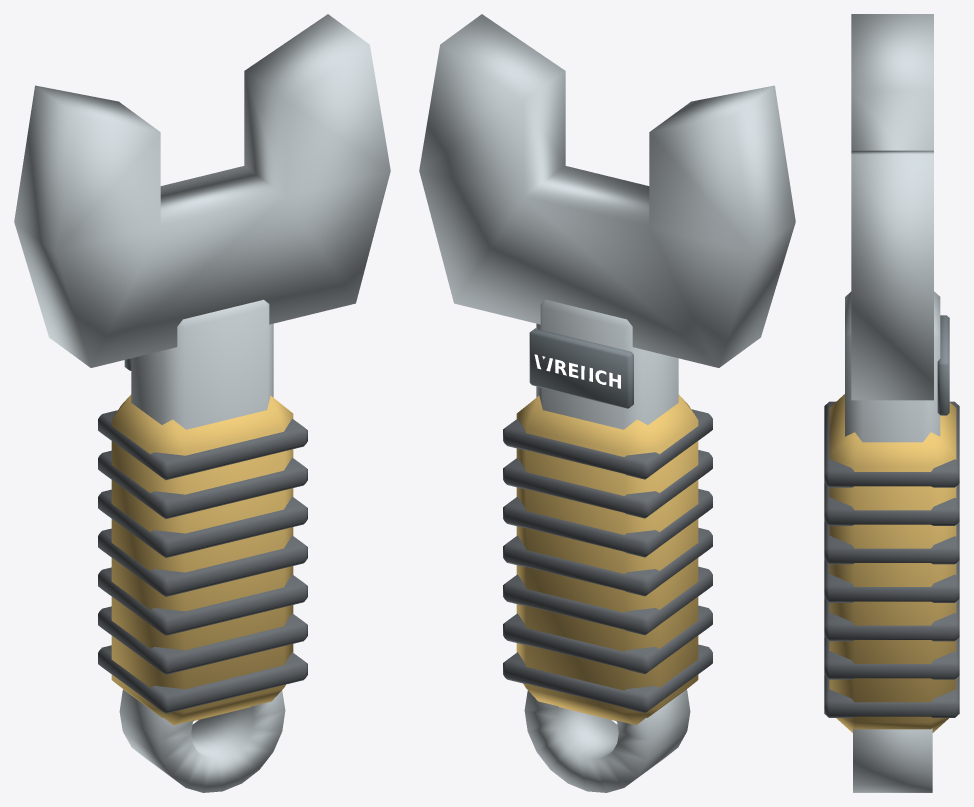
The model's file is wrench_standard.glb.
The picture shows the model from 3 angles, left to right: view 1: azimuth 30°, elevation 25°; view 2: azimuth 150°, elevation 25°; view 3: azimuth 270°, elevation 25°; orthographic projection.
Visible parts, largest first — view 1: WrenchHead_steel, GripRib_rubber, GripHousing_gold, Shank_steel, LanyardRing_steel; view 2: WrenchHead_steel, GripHousing_gold, GripRib_rubber, LanyardRing_steel, Shank_steel, Nameplate_frame, TypeLabel_white; view 3: WrenchHead_steel, GripHousing_gold, GripRib_rubber, Shank_steel, LanyardRing_steel, Nameplate_frame.
Part boxes in pixels (x1=…): WrenchHead_steel: x1=14, y1=14, x2=390, y2=367; GripRib_rubber: x1=98, y1=410, x2=307, y2=713; GripHousing_gold: x1=111, y1=394, x2=293, y2=725; Shank_steel: x1=131, y1=299, x2=273, y2=429; LanyardRing_steel: x1=119, y1=689, x2=285, y2=792; WrenchHead_steel: x1=419, y1=14, x2=795, y2=367; GripHousing_gold: x1=516, y1=394, x2=698, y2=725; GripRib_rubber: x1=503, y1=409, x2=712, y2=712; LanyardRing_steel: x1=524, y1=689, x2=690, y2=792; Shank_steel: x1=536, y1=299, x2=678, y2=429; Nameplate_frame: x1=529, y1=328, x2=633, y2=408; TypeLabel_white: x1=534, y1=354, x2=620, y2=388; WrenchHead_steel: x1=851, y1=14, x2=933, y2=400; GripHousing_gold: x1=829, y1=394, x2=956, y2=732; GripRib_rubber: x1=824, y1=401, x2=959, y2=717; Shank_steel: x1=845, y1=291, x2=940, y2=442; LanyardRing_steel: x1=853, y1=728, x2=932, y2=792; Nameplate_frame: x1=937, y1=315, x2=949, y2=415.
Bounding box in the file's own units: 0.48 × 0.975 × 0.17.
